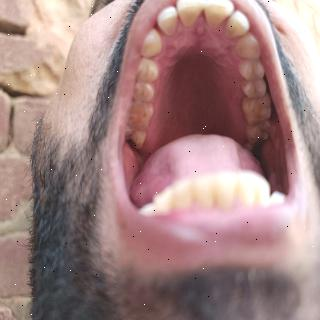UL1BC_mdecay: (238, 60, 265, 79)
UL1M_mdecay: (242, 97, 272, 124)
UL2BC_mdecay: (241, 80, 267, 97)
UL2M_sdecay: (245, 123, 274, 144)
ULCI_healthy: (205, 1, 233, 25)
ULC_healthy: (236, 34, 260, 60)
ULLI_healthy: (227, 10, 250, 37)
UR1BC_healthy: (136, 59, 159, 82)
UR1M_mdecay: (127, 103, 154, 128)
UR2BC_mdecay: (132, 83, 154, 104)
UR2M_sdecay: (125, 125, 147, 150)
URCI_healthy: (176, 1, 204, 26)
URC_healthy: (141, 30, 162, 57)
URLI_healthy: (156, 6, 178, 34)
